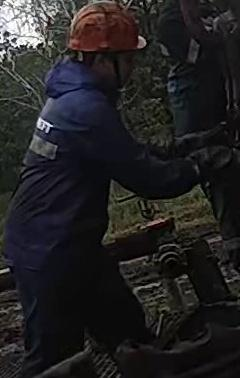gloves: (173, 127, 238, 183)
helmet: (67, 1, 147, 53)
vest: (0, 72, 119, 278), (159, 0, 237, 124)
